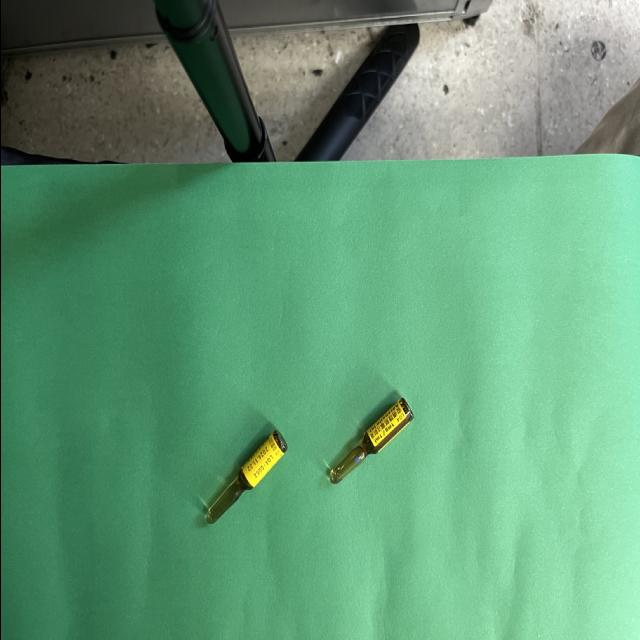Ampoules: (204, 431, 286, 525), (328, 399, 412, 485)
